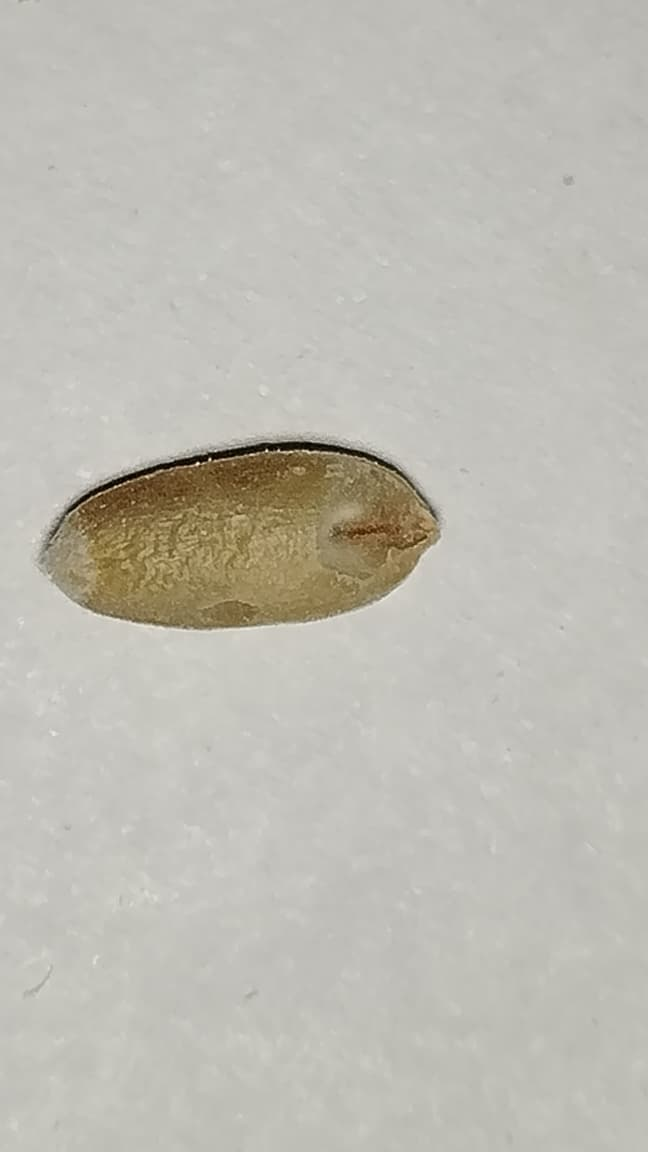damage: (42, 447, 437, 627)
insectdamage: (314, 454, 433, 574), (191, 586, 259, 629)
